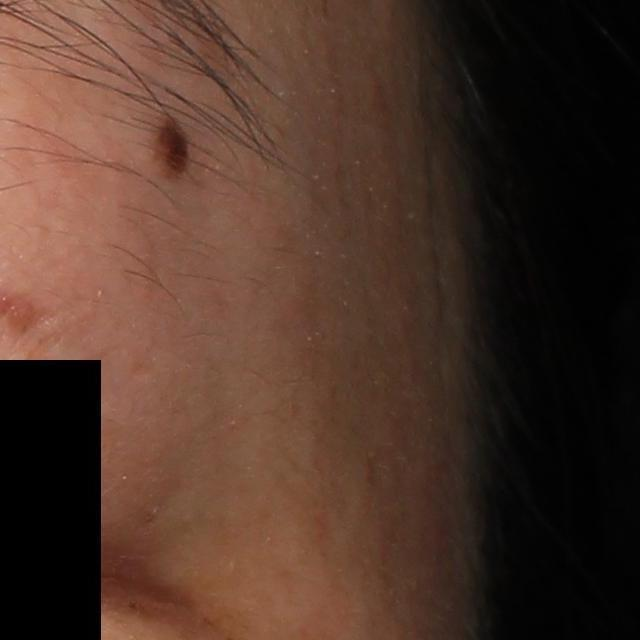nevus: (147, 101, 197, 192)
